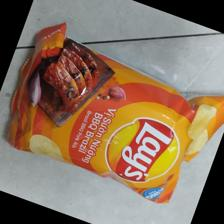Lays: (8, 21, 224, 206)
